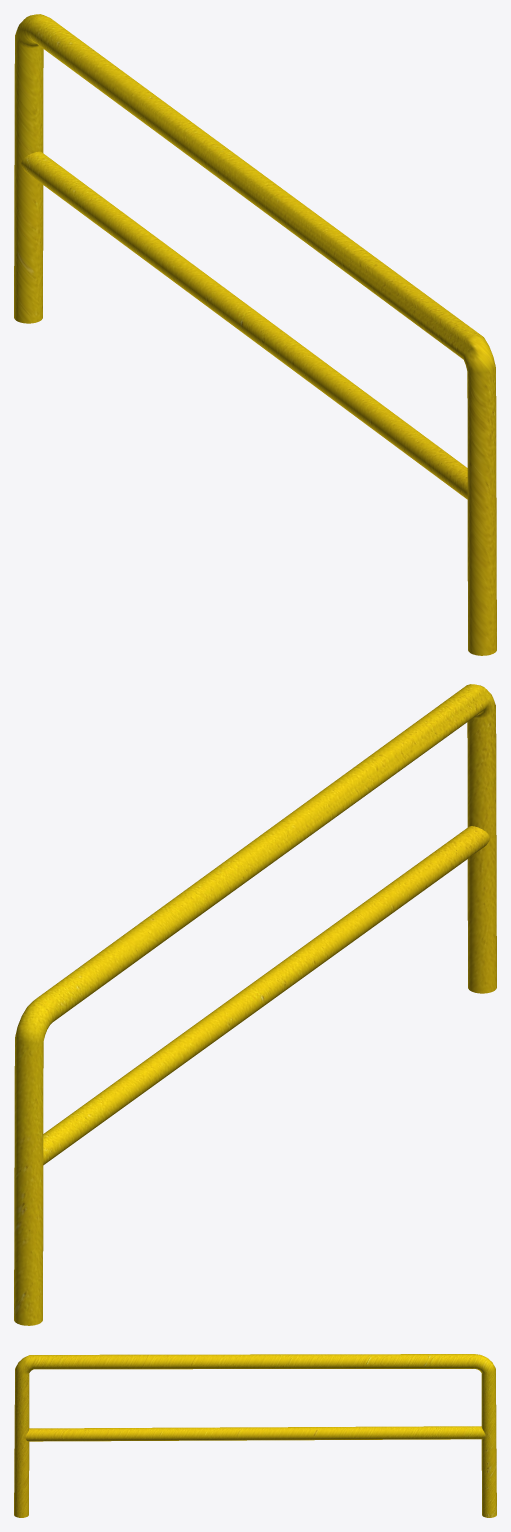
The model's file is handrail - OK.fbx.
3 renders of one model, top to bottom at view 1: azimuth 30°, elevation 25°; view 2: azimuth 150°, elevation 25°; view 3: azimuth 270°, elevation 25°, orthographic. The views are drawn at different scales.
Visible parts, largest first — view 1: pTorus3; view 2: pTorus3; view 3: pTorus3.
Boxes of the visible parts, <box> form: pTorus3: <box>14,14,496,655</box>; pTorus3: <box>14,684,496,1325</box>; pTorus3: <box>14,1354,496,1517</box>.
Bounding box in the file's own units: 0.1903 × 2.23 × 6.11.
1 material, 1 textured.
